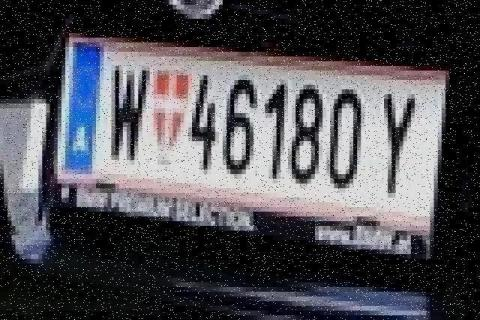LicensePlate: (54, 23, 454, 272)
